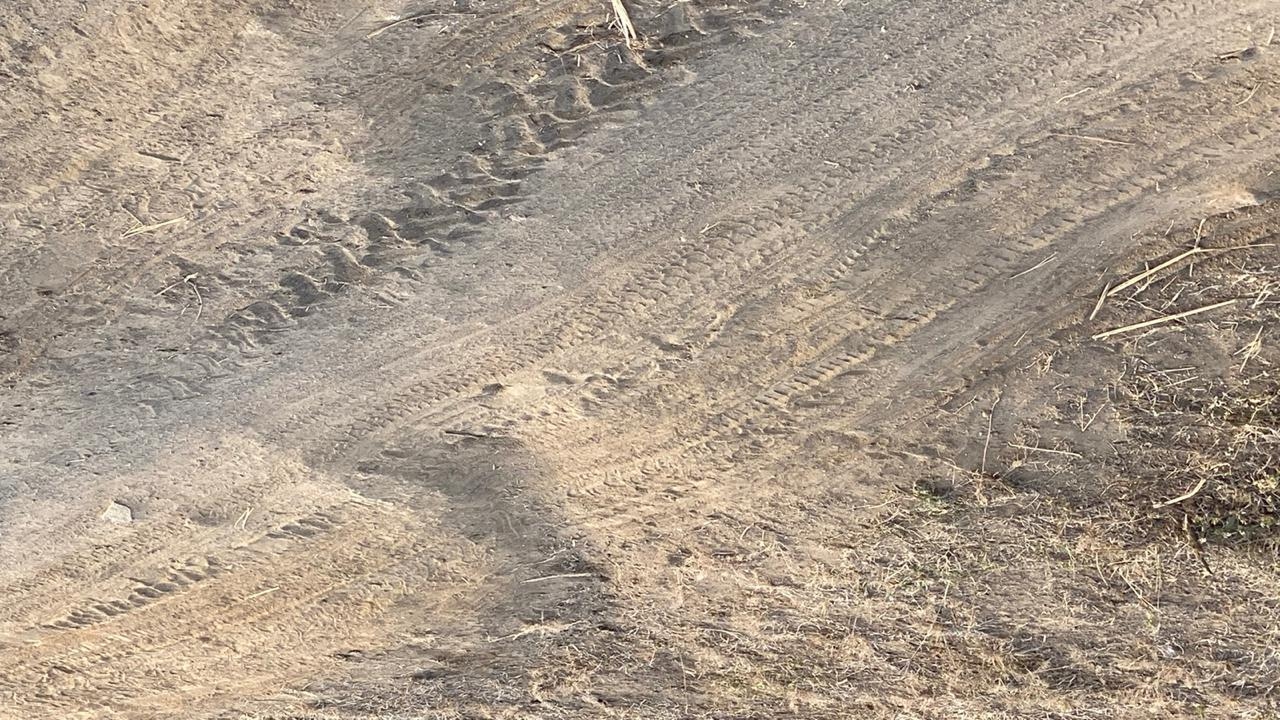vehicle_track: (0, 0, 1280, 701)
